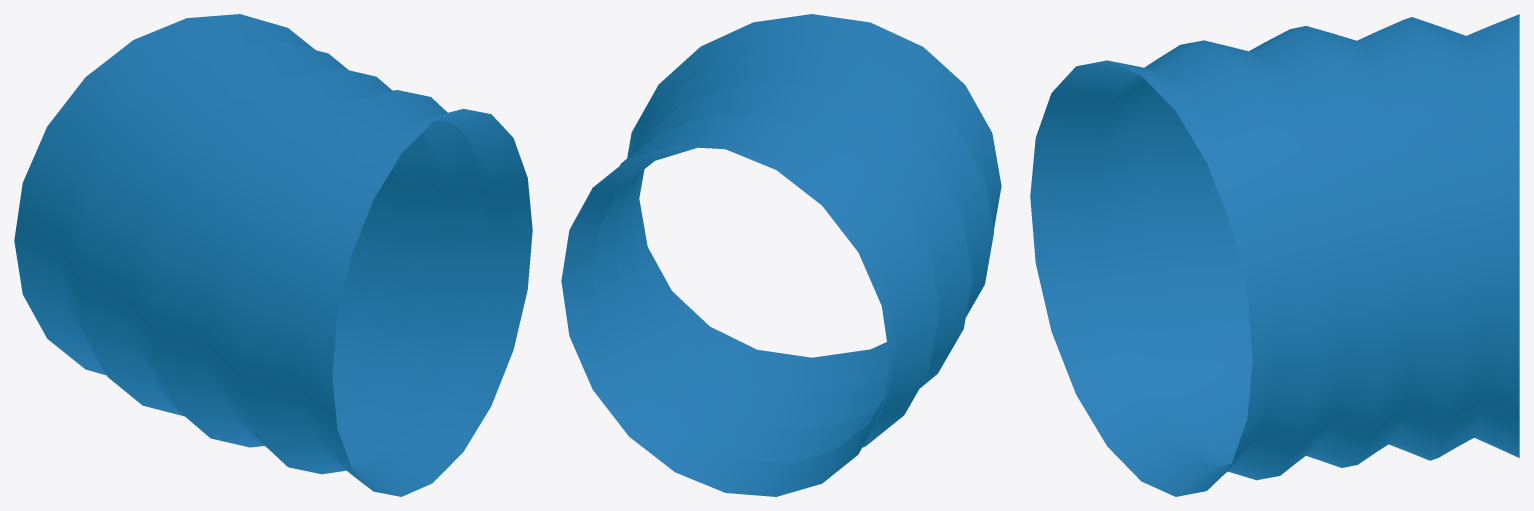
File: tunnel_segment_curved.glb
3 renders of one model, left to right at view 1: azimuth 30°, elevation 25°; view 2: azimuth 150°, elevation 25°; view 3: azimuth 270°, elevation 25°, orthographic. The views are drawn at different scales.
Bounding box in the file's own units: 10.22 × 8.82 × 9.64.
